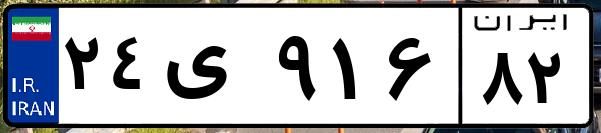1: (330, 28, 385, 110)
2: (57, 26, 110, 100), (525, 38, 570, 115)
4: (110, 28, 158, 98)
6: (385, 28, 445, 110)
8: (475, 38, 525, 113)
9: (270, 28, 330, 110)
ی: (158, 20, 270, 120)
